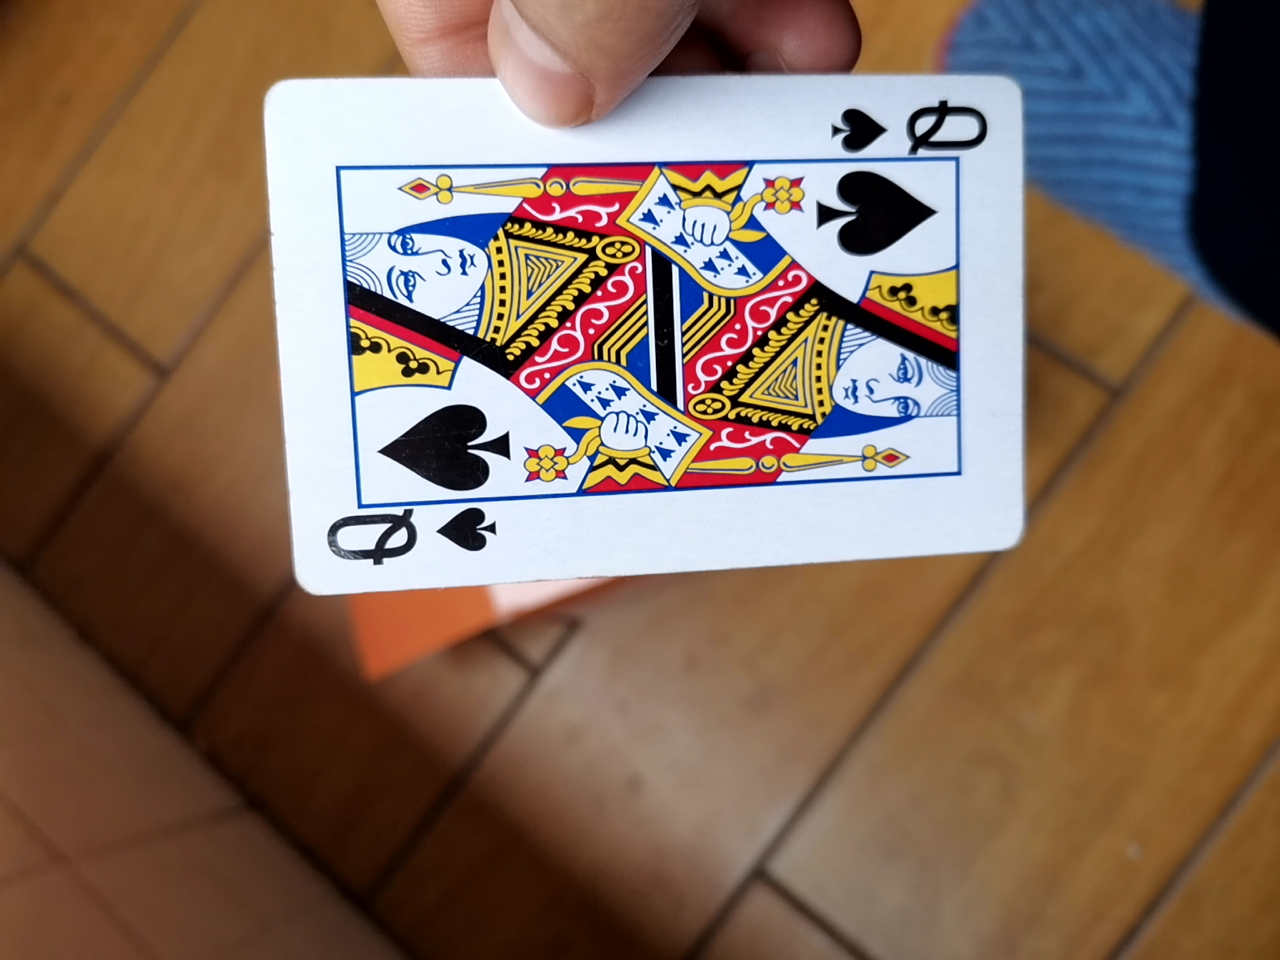ht q: (240, 65, 1022, 627)
